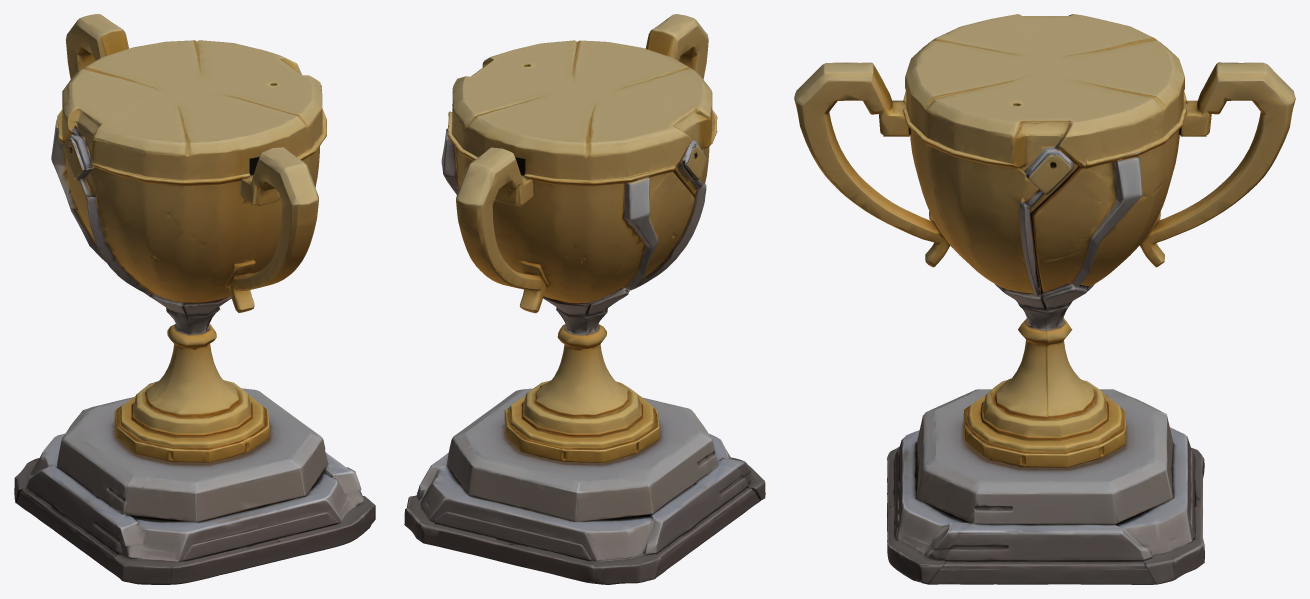
File: trophy.glb
3 views of the same model, side by side, from view 1: azimuth 30°, elevation 25°; view 2: azimuth 150°, elevation 25°; view 3: azimuth 270°, elevation 25° (orthographic). The views are drawn at different scales.
Visible parts, largest first — view 1: tripo_node_f1ff3602-5fef-45c3-9e49-8585be387049; view 2: tripo_node_f1ff3602-5fef-45c3-9e49-8585be387049; view 3: tripo_node_f1ff3602-5fef-45c3-9e49-8585be387049.
Part boxes in pixels (left/top/right/bottom): tripo_node_f1ff3602-5fef-45c3-9e49-8585be387049: left=14, top=14, right=375, bottom=584; tripo_node_f1ff3602-5fef-45c3-9e49-8585be387049: left=404, top=14, right=765, bottom=584; tripo_node_f1ff3602-5fef-45c3-9e49-8585be387049: left=794, top=14, right=1295, bottom=584.
Size of the model in its own units: 0.6123 by 0.9784 by 0.9794.
Materials: 1 (1 with a texture image).
